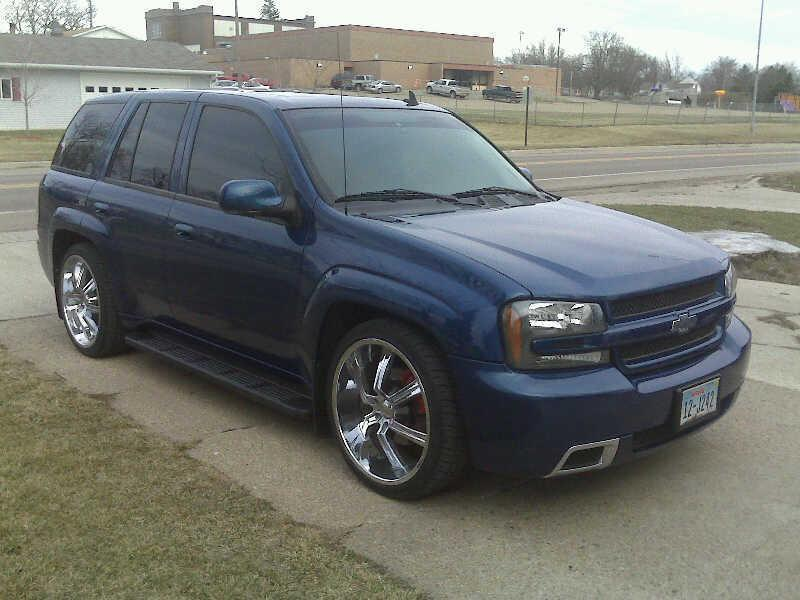Car: (30, 66, 758, 518)
